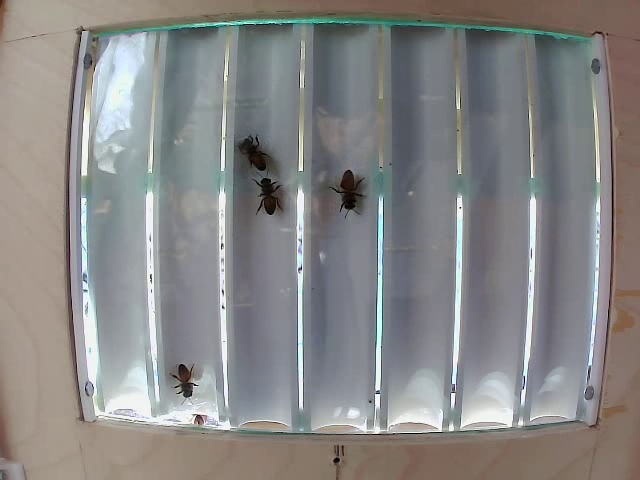bee: (325, 156, 363, 220), (235, 168, 276, 222), (232, 126, 263, 170)
